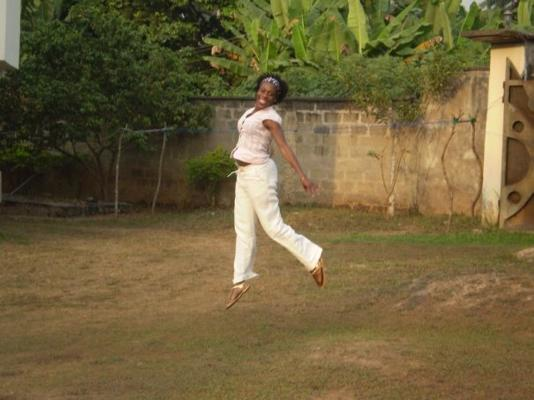person: (232, 72, 329, 304)
